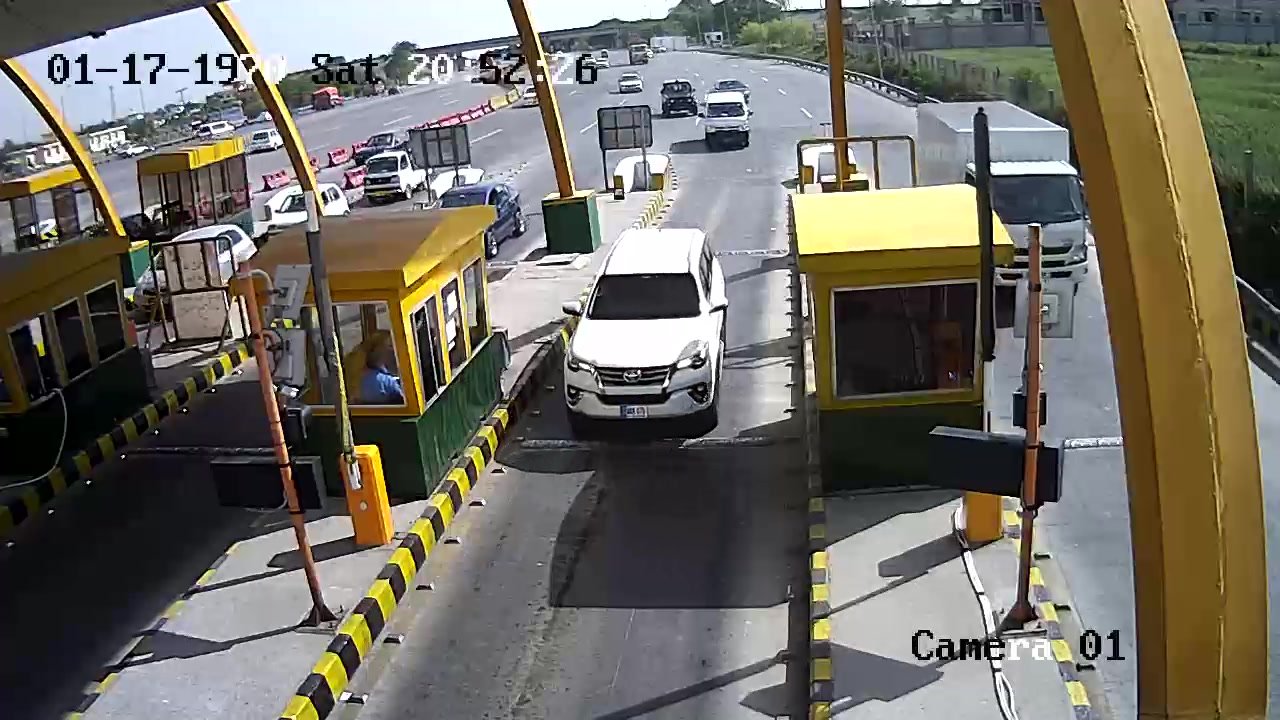F1: (555, 213, 743, 440)
